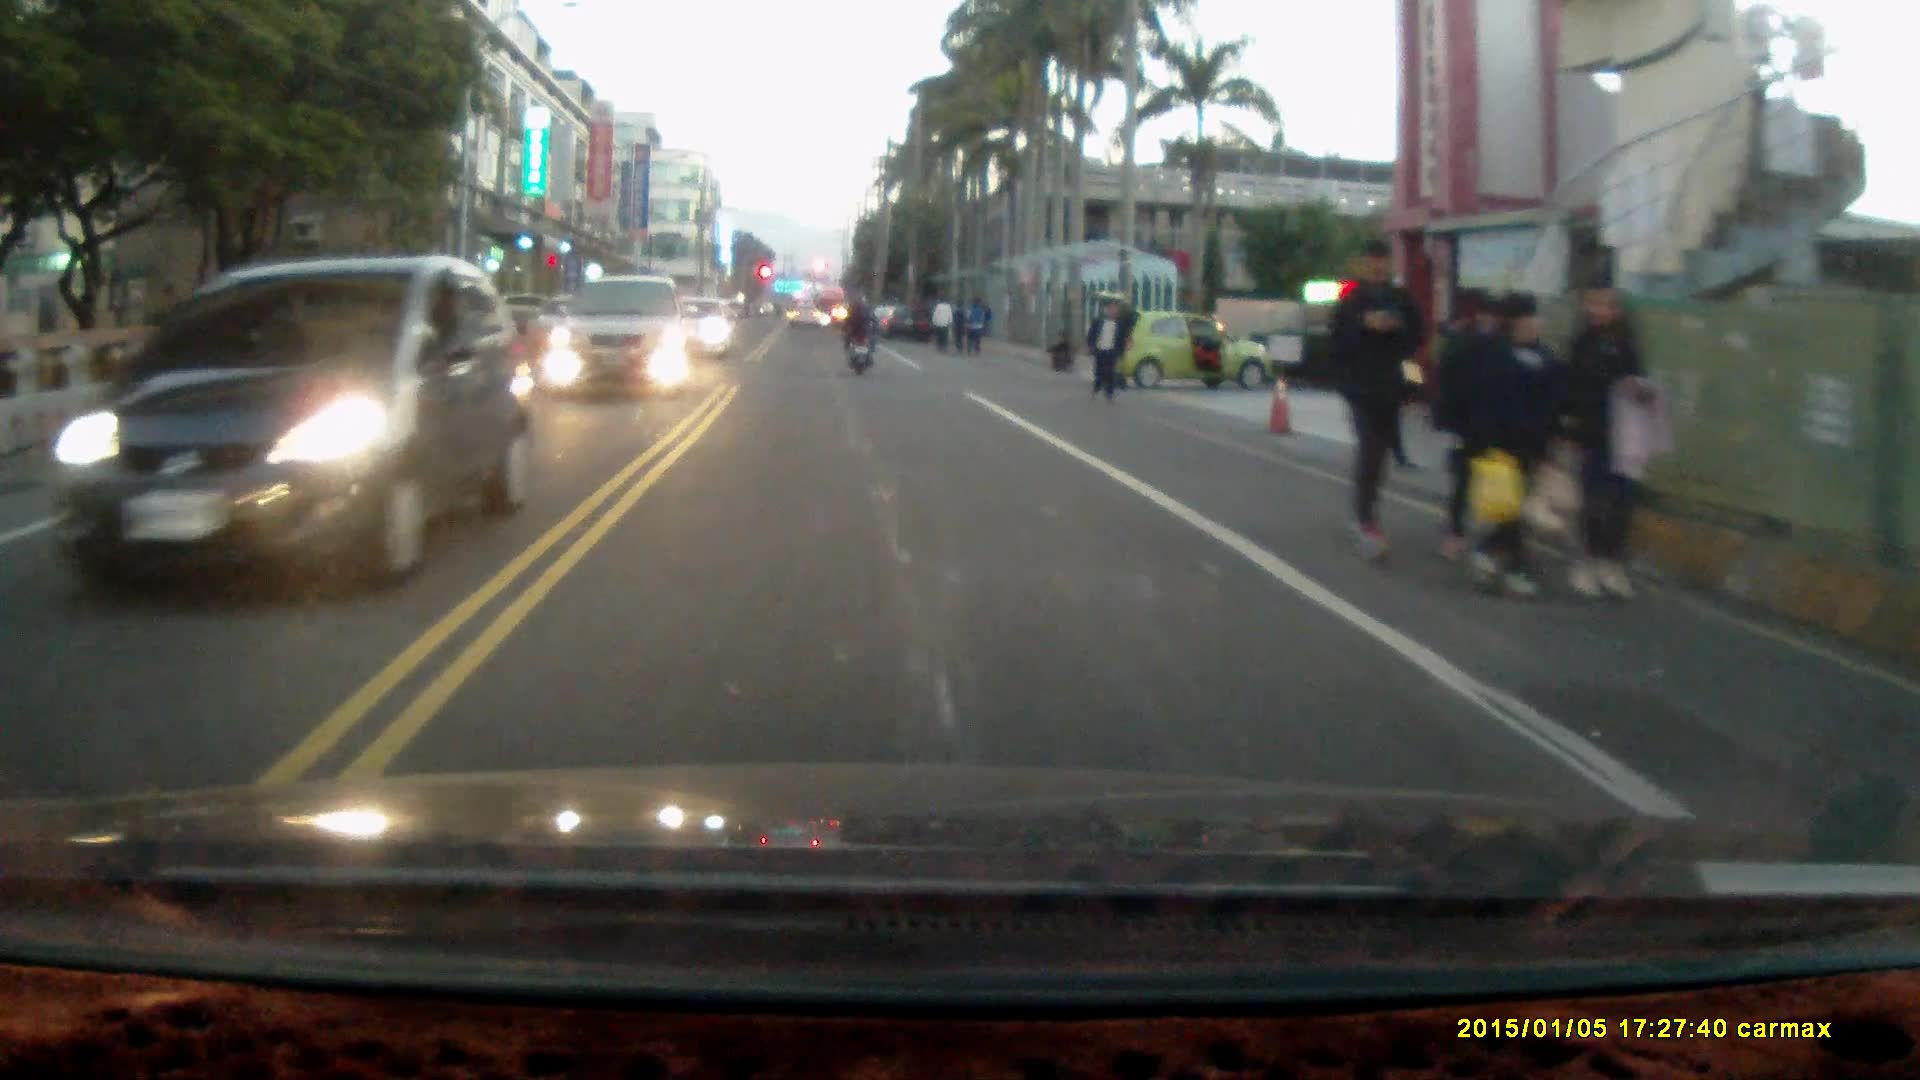pedestrian: (1455, 283, 1568, 601), (1322, 235, 1423, 566), (1555, 280, 1656, 604), (1080, 297, 1124, 407), (960, 293, 986, 356), (1042, 323, 1074, 374), (932, 289, 953, 355)
rider: (837, 292, 877, 377)
vehicle: (17, 252, 529, 596), (548, 274, 695, 394), (1090, 294, 1268, 392), (655, 297, 742, 362)
